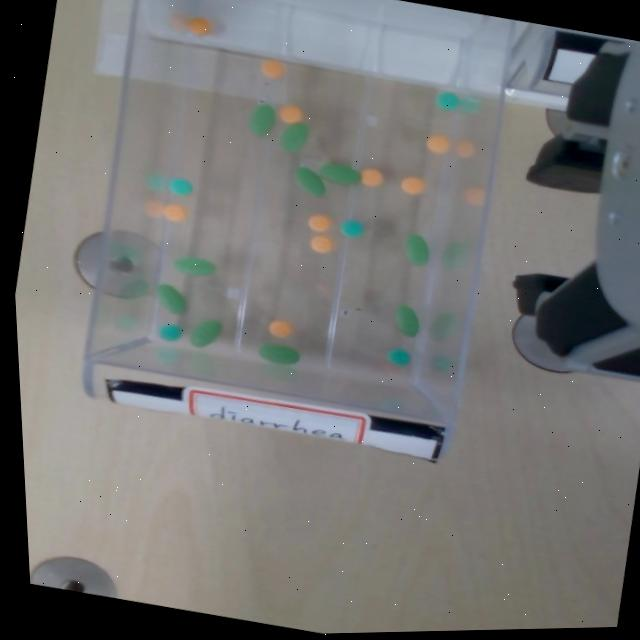famodine: (432, 89, 460, 113), (337, 218, 365, 240), (384, 347, 410, 368), (155, 323, 182, 343), (167, 176, 191, 197), (434, 92, 460, 111), (167, 178, 191, 196), (340, 220, 363, 238), (157, 325, 181, 342), (386, 349, 409, 366)
otillen_tab: (315, 160, 362, 188), (185, 316, 223, 350), (152, 282, 189, 316), (290, 165, 328, 198), (171, 254, 216, 280), (245, 102, 276, 139), (256, 341, 300, 367), (277, 120, 309, 154), (400, 232, 430, 267), (391, 304, 421, 339), (294, 166, 324, 197), (155, 284, 185, 315), (188, 320, 221, 347), (247, 104, 274, 136), (318, 164, 359, 185), (257, 344, 298, 365), (172, 257, 214, 277), (279, 124, 307, 152), (404, 235, 427, 266), (395, 306, 417, 337)
samsung_octylonium_tab: (183, 14, 210, 38), (423, 133, 450, 156), (357, 166, 383, 188), (160, 202, 185, 224), (259, 59, 284, 81), (266, 319, 292, 340), (399, 175, 424, 196), (308, 234, 332, 255), (306, 213, 330, 234), (259, 60, 284, 80), (278, 104, 301, 125), (277, 106, 302, 125), (185, 18, 211, 36), (425, 135, 449, 154), (306, 215, 331, 233), (267, 321, 291, 339), (161, 204, 185, 222), (399, 177, 423, 195), (309, 236, 332, 254), (359, 169, 382, 187)
